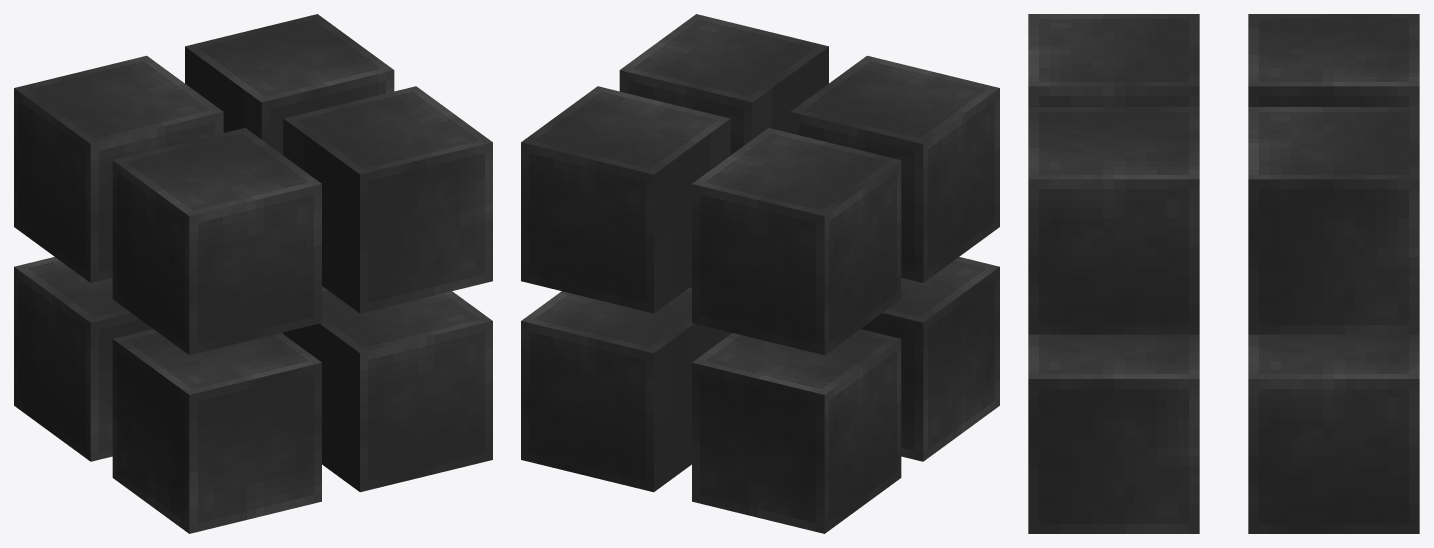
File: repulsor_frame.obj
The picture shows the model from 3 angles, left to right: view 1: azimuth 30°, elevation 25°; view 2: azimuth 150°, elevation 25°; view 3: azimuth 270°, elevation 25°; orthographic projection. The views are drawn at different scales.
Bounding box in the file's own units: 1 × 1 × 1.
